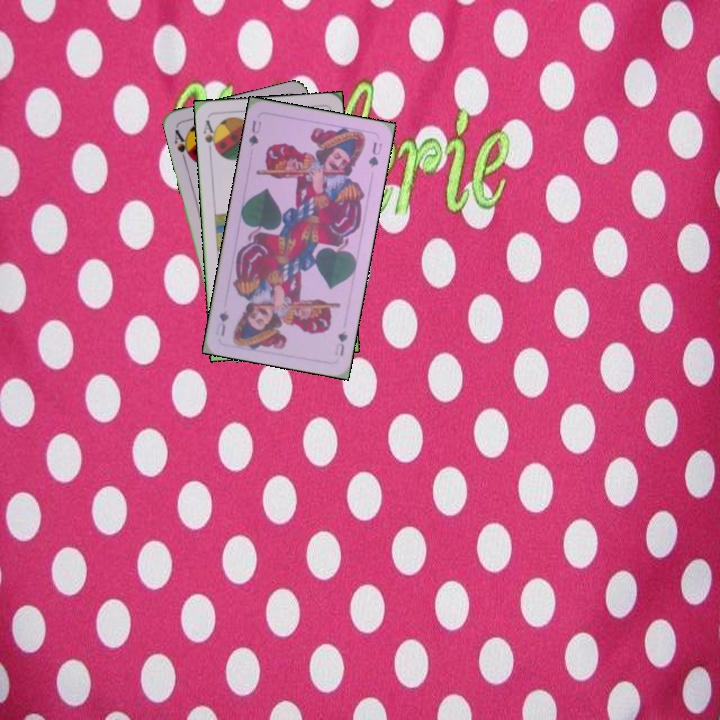GU: (245, 116, 264, 149), (331, 327, 350, 359)
SA: (170, 125, 195, 164), (199, 116, 220, 155)
